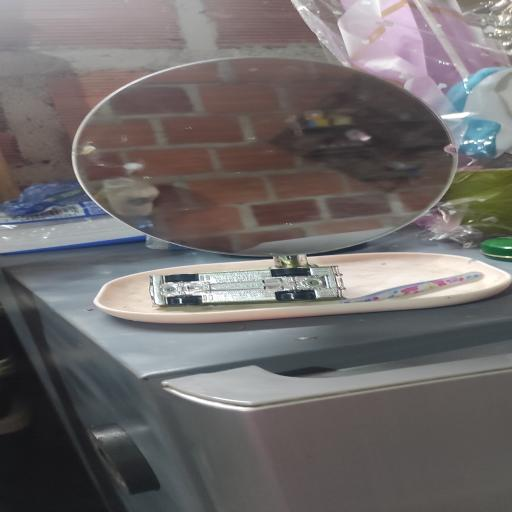Carrito: (149, 265, 345, 307)
